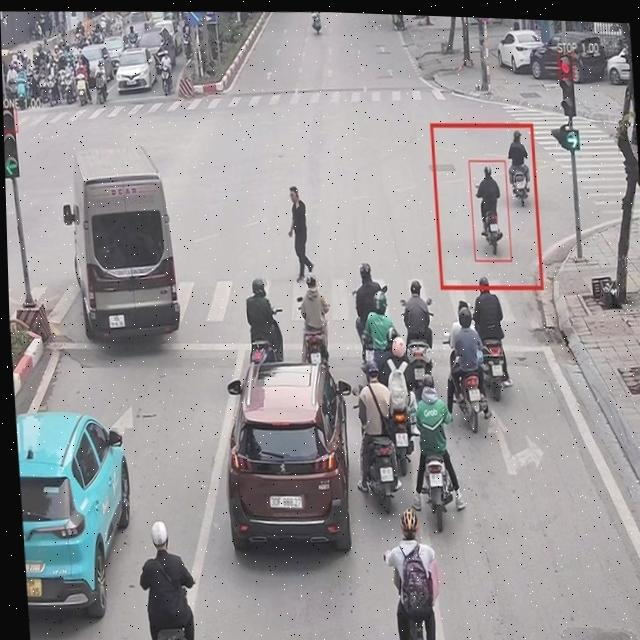car: (222, 353, 361, 567), (59, 141, 188, 360), (15, 403, 141, 625), (526, 20, 606, 89), (491, 23, 544, 80), (114, 46, 158, 95)
motorcycle: (362, 433, 403, 519), (420, 452, 458, 535), (479, 334, 514, 407), (387, 407, 419, 478), (403, 335, 436, 395), (457, 367, 486, 435), (244, 334, 284, 383), (299, 328, 331, 372), (479, 207, 507, 255), (509, 168, 533, 211), (92, 71, 110, 106), (12, 76, 29, 110), (45, 74, 61, 108), (74, 73, 90, 106), (61, 72, 76, 105), (159, 64, 173, 97)
